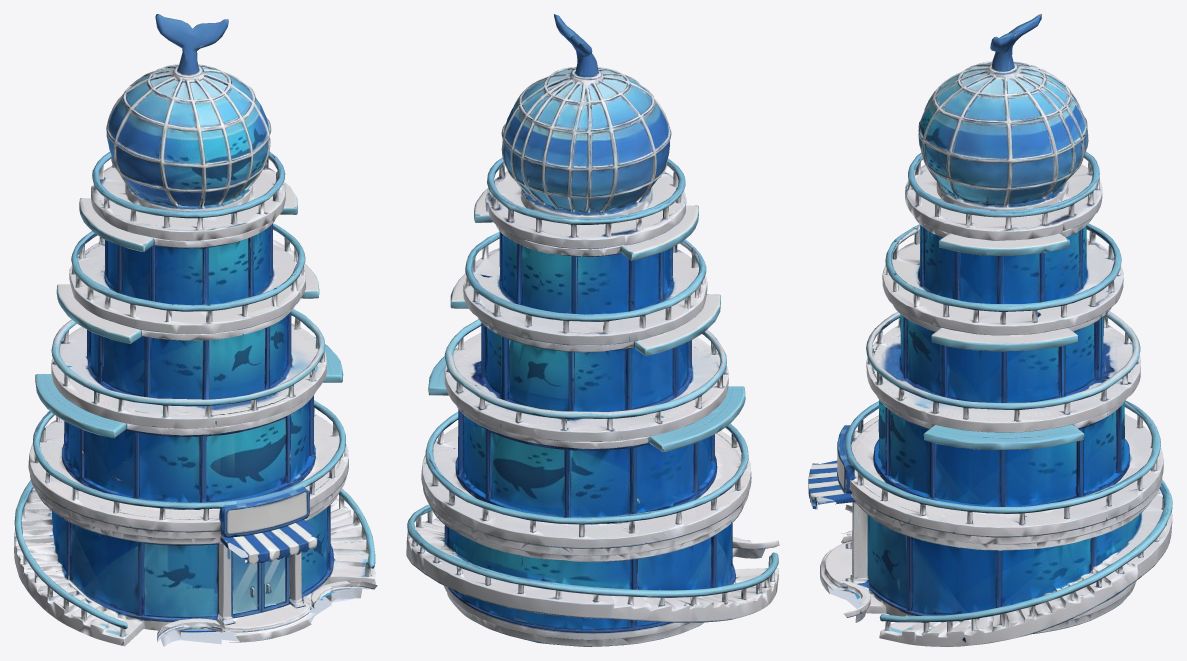
Rendered from aquarium.glb.
3 renders of one model, left to right at view 1: azimuth 30°, elevation 25°; view 2: azimuth 150°, elevation 25°; view 3: azimuth 270°, elevation 25°, orthographic. The views are drawn at different scales.
Bounding box in the file's own units: 1.14 × 1.9 × 1.13.
1 material, 1 textured.
